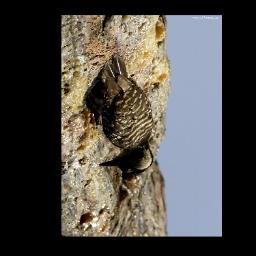Woodpecker: (84, 51, 154, 176)
